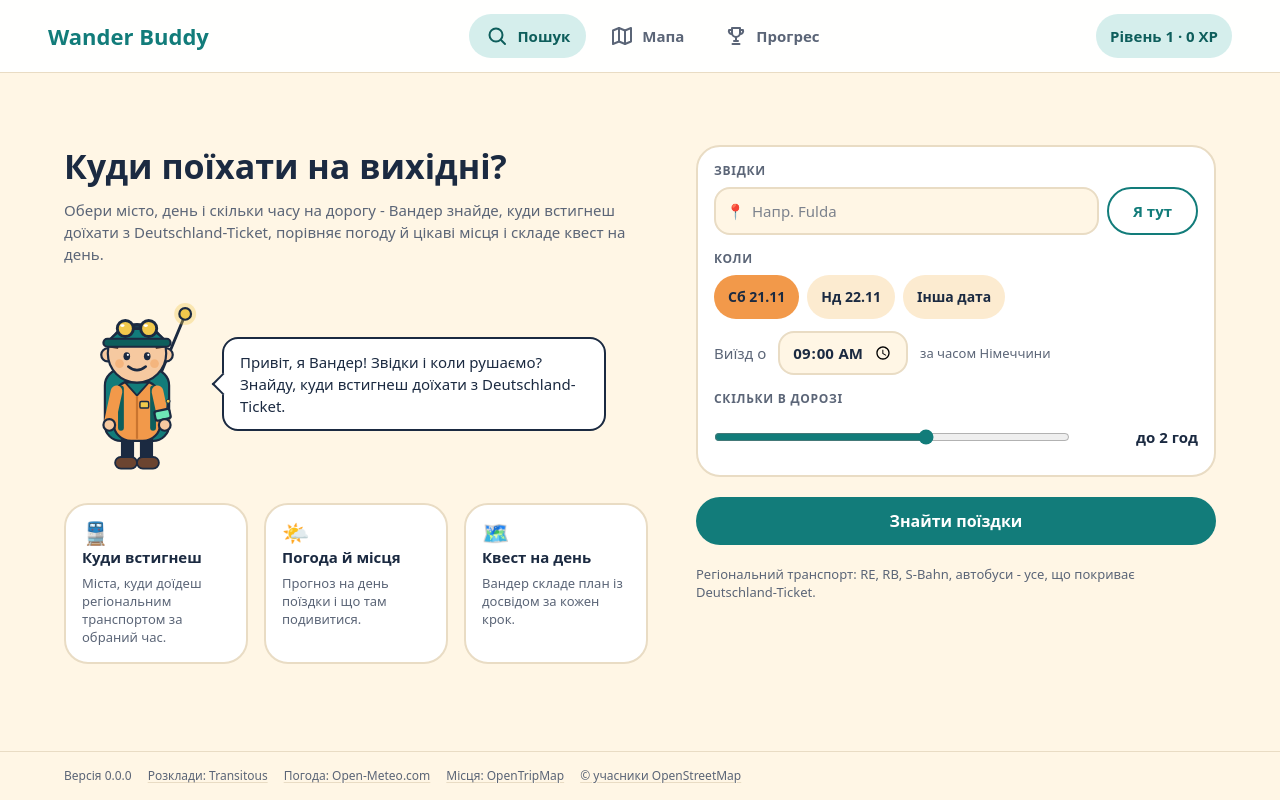
Scenario: "I am here" › ignores a position that arrives after the user typed a town
Click the button "Я тут" at (1152, 211), box [1107, 187, 1198, 235]
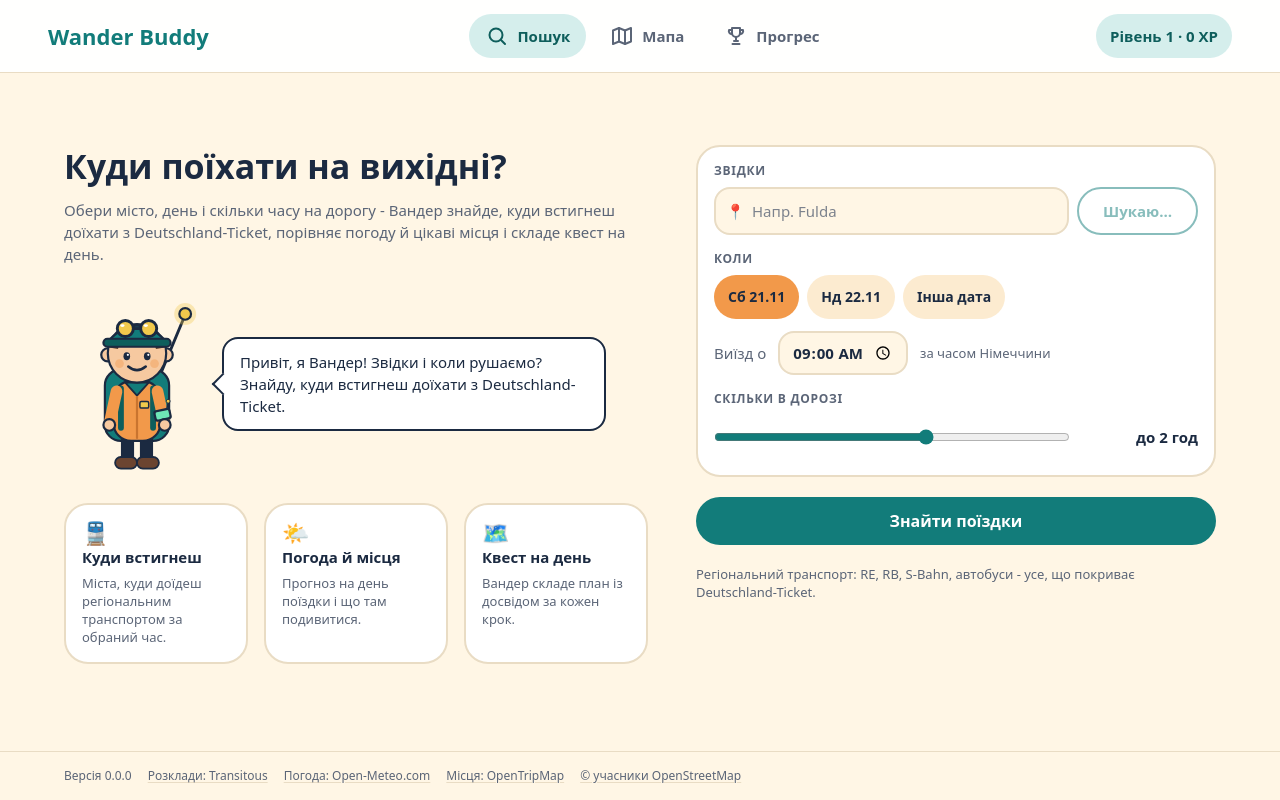
Type "Fulda" into the dropdown at (892, 211), box [714, 187, 1069, 235]
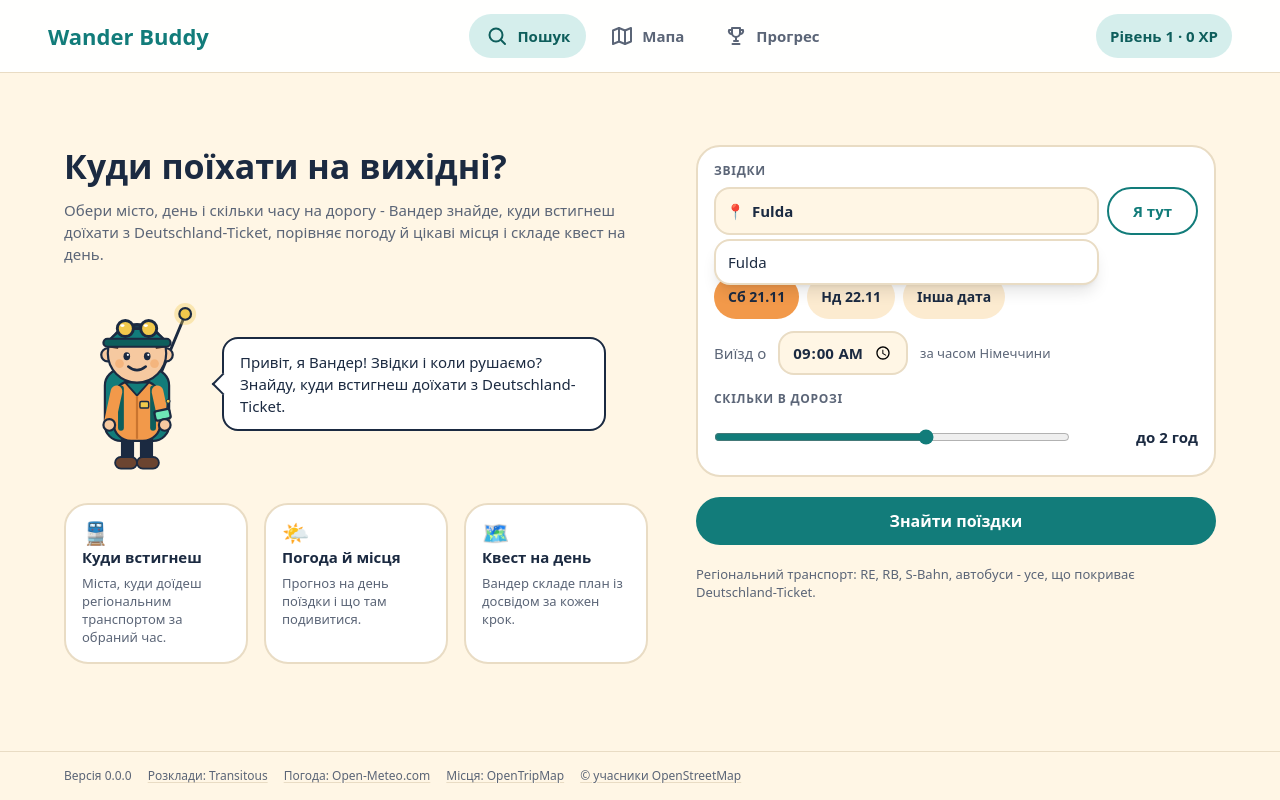
Expected: the button "Я тут" is enabled, [1107, 187, 1198, 235]
